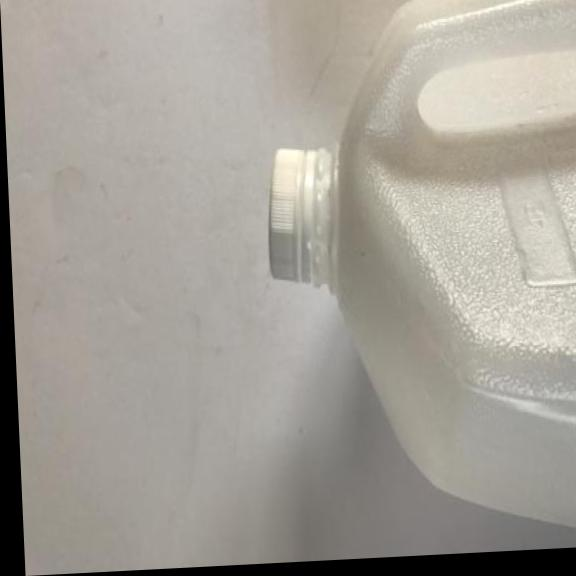Plastik: (254, 0, 576, 563)
